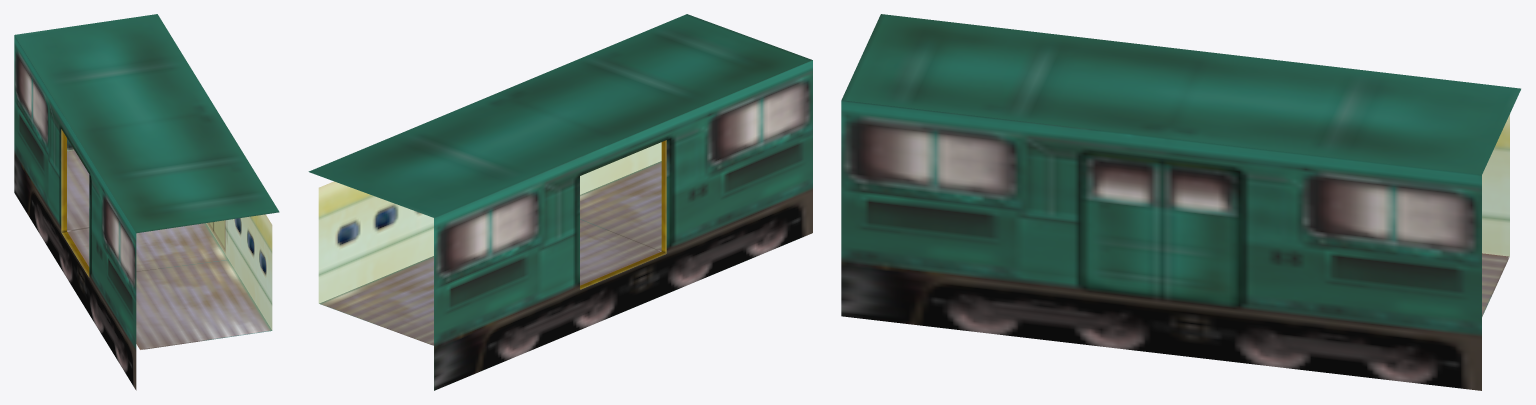
Rendered from TRAIN02.glb.
3 views of the same model, side by side, from view 1: azimuth 30°, elevation 25°; view 2: azimuth 150°, elevation 25°; view 3: azimuth 270°, elevation 25° (orthographic). The views are drawn at different scales.
Parts seen in each view (by area): view 1: TRAIN02; view 2: TRAIN02; view 3: TRAIN02.
Boxes of the visible parts, left/top/right/bottom form: TRAIN02: left=14, top=14, right=279, bottom=390; TRAIN02: left=308, top=14, right=812, bottom=390; TRAIN02: left=841, top=14, right=1520, bottom=390.
Bounding box in the file's own units: 863 × 540 × 1541.
Materials: 2 (2 with a texture image).
